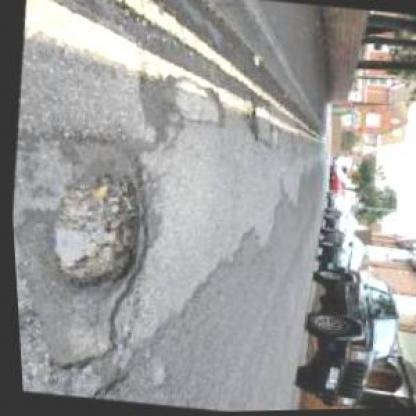pothole: (36, 160, 154, 298)
